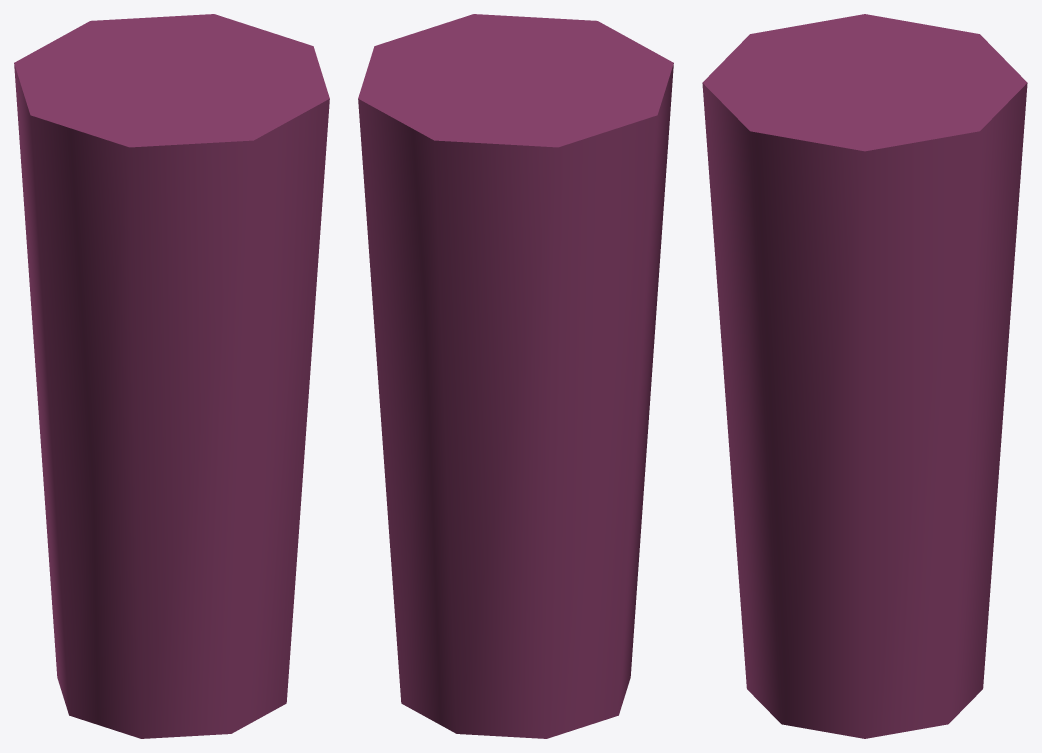
File: Player_LeftSubLeg.obj
3 views of the same model, side by side, from view 1: azimuth 30°, elevation 25°; view 2: azimuth 150°, elevation 25°; view 3: azimuth 270°, elevation 25° (orthographic).
Visible parts, largest first — view 1: RightSubLeg; view 2: RightSubLeg; view 3: RightSubLeg.
Boxes of the visible parts, x1,y1,x2,y2 form: RightSubLeg: [14, 14, 329, 738]; RightSubLeg: [358, 14, 673, 738]; RightSubLeg: [702, 14, 1027, 738].
Bounding box in the file's own units: 13.6 × 27.99 × 13.6.
